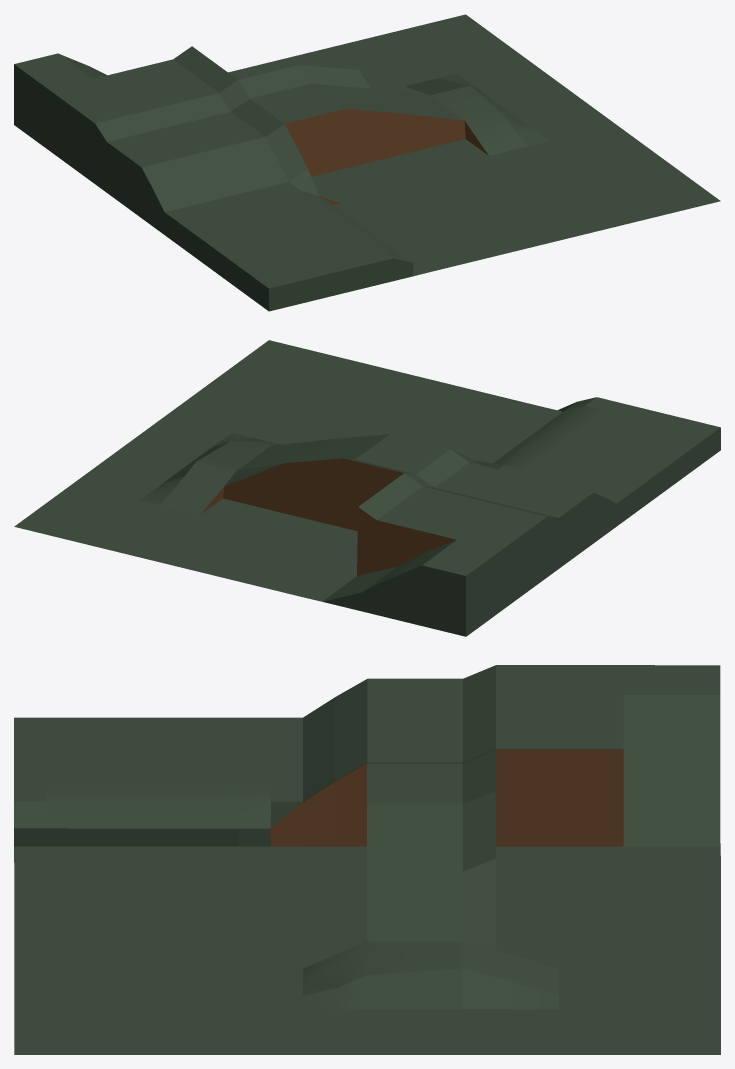
Rendered from MapTest1.glb.
3 views of the same model, one above another, from view 1: azimuth 30°, elevation 25°; view 2: azimuth 150°, elevation 25°; view 3: azimuth 270°, elevation 25° (orthographic). The views are drawn at different scales.
Visible parts, largest first — view 1: pPlane1; view 2: pPlane1; view 3: pPlane1.
Part boxes in pixels (x1,y1,x2,y2): pPlane1: [14, 14, 720, 311]; pPlane1: [14, 340, 720, 636]; pPlane1: [14, 665, 720, 1054].
Size of the model in its own units: 4.55 by 0.6688 by 4.45.
